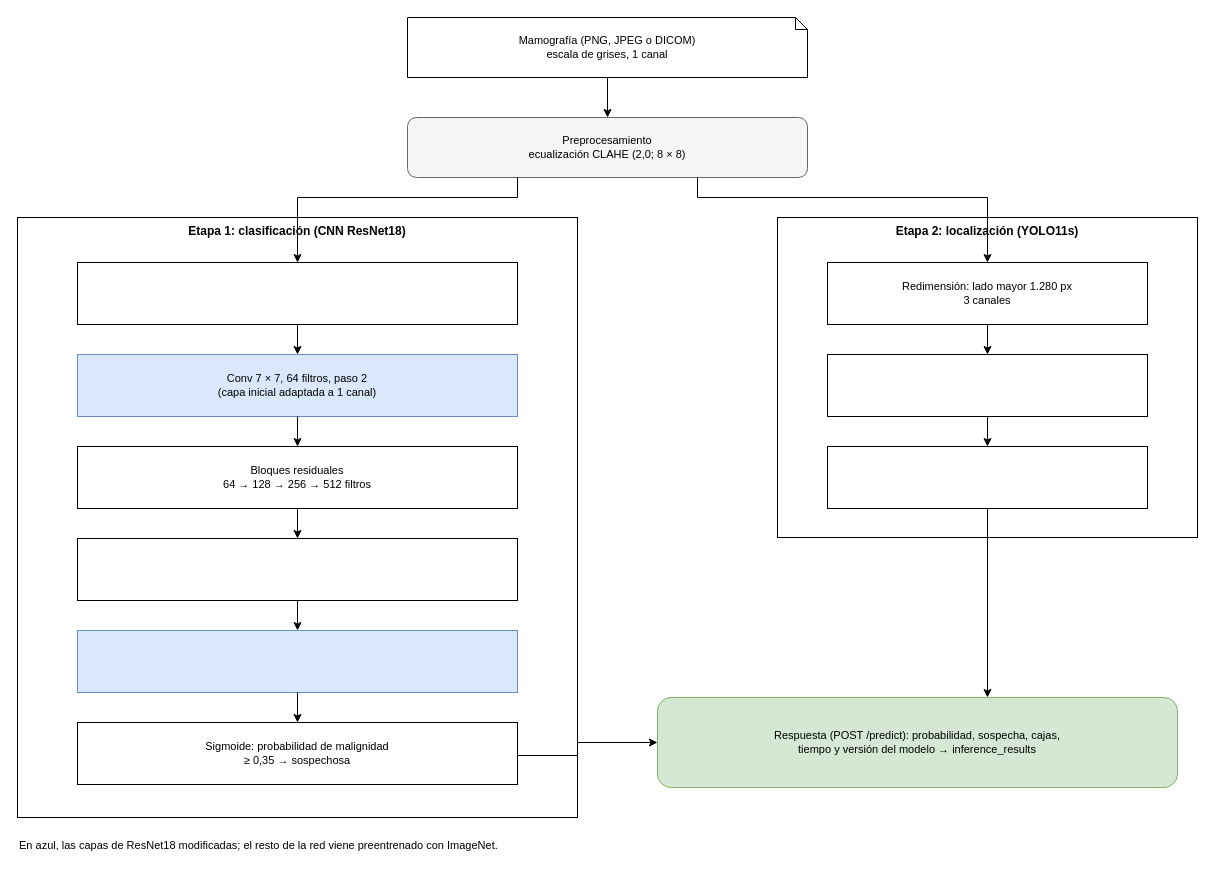
This 1215x875 diagram has some shape labels left out. Each missing label, with the centre of its shape:
"Cajas de la clase «masa» confianza ≥ 0,25" goes at (987,477).
"Detector YOLO11s" goes at (987,385).
"Dropout 40 % + densa 512 → 1 (capa de salida reemplazada)" goes at (297,661).
"Entrada 672 × 1024 × 1 (ajuste sin deformar, con relleno)" goes at (297,293).
"Promedio global (512 valores)" goes at (297,569).
